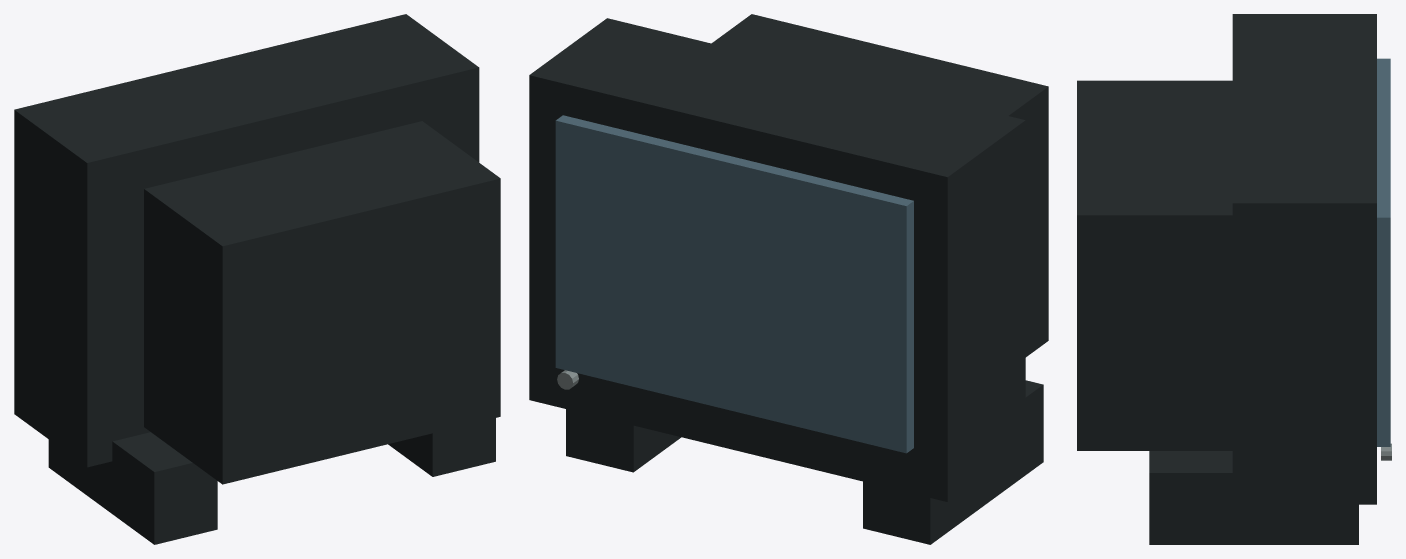
The model's file is television_crt.glb.
The picture shows the model from 3 angles, left to right: view 1: azimuth 30°, elevation 25°; view 2: azimuth 150°, elevation 25°; view 3: azimuth 270°, elevation 25°; orthographic projection. The views are drawn at different scales.
Visible parts, largest first — view 1: television_crt; view 2: television_crt; view 3: television_crt.
Boxes of the visible parts, x1=… form: television_crt: x1=14, y1=14, x2=500, y2=544; television_crt: x1=529, y1=14, x2=1048, y2=544; television_crt: x1=1077, y1=14, x2=1391, y2=544.
Size of the model in its own units: 0.62 by 0.54 by 0.4355.
